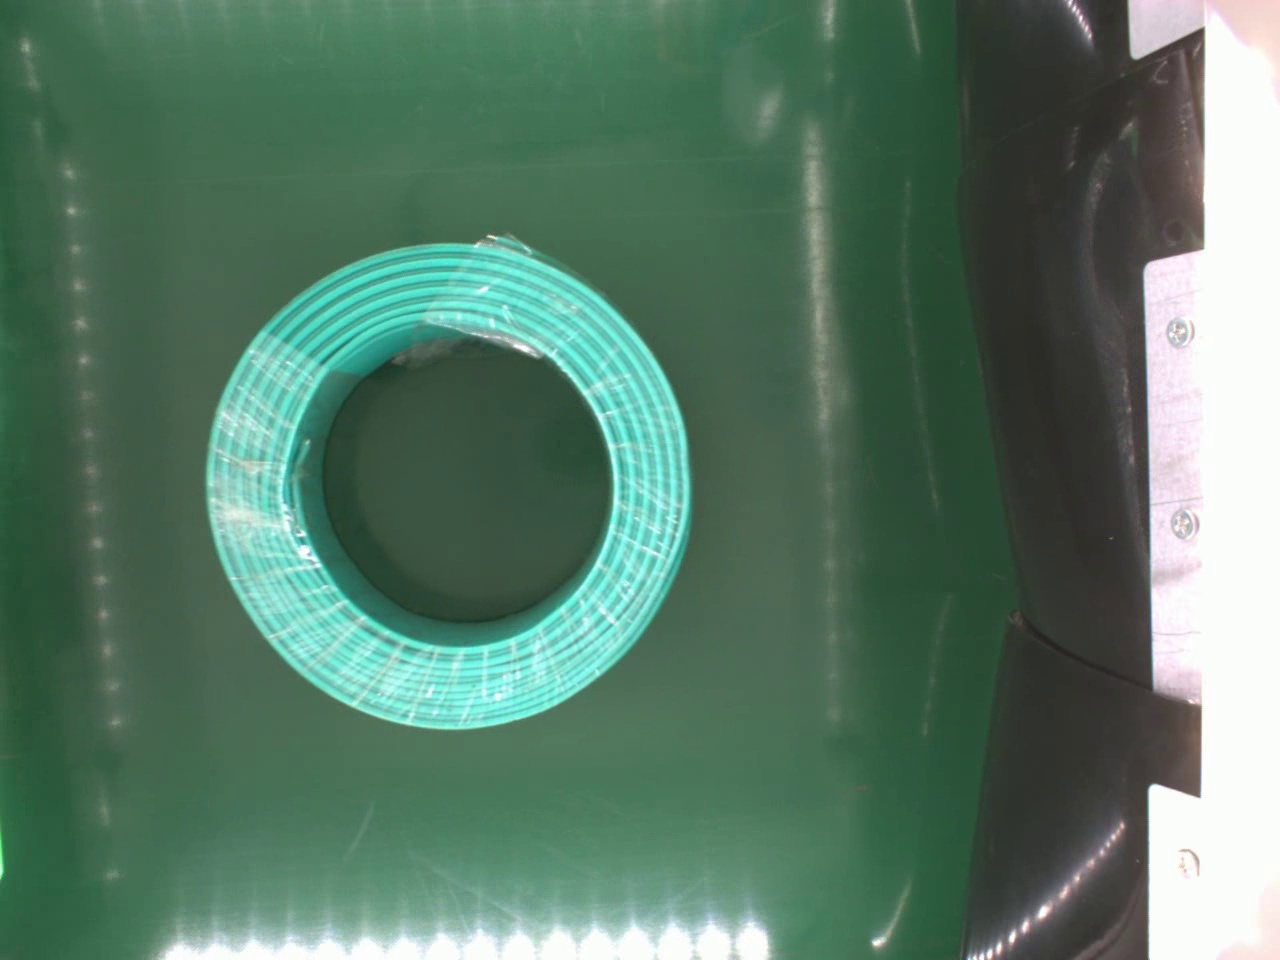green: (206, 235, 697, 730)
